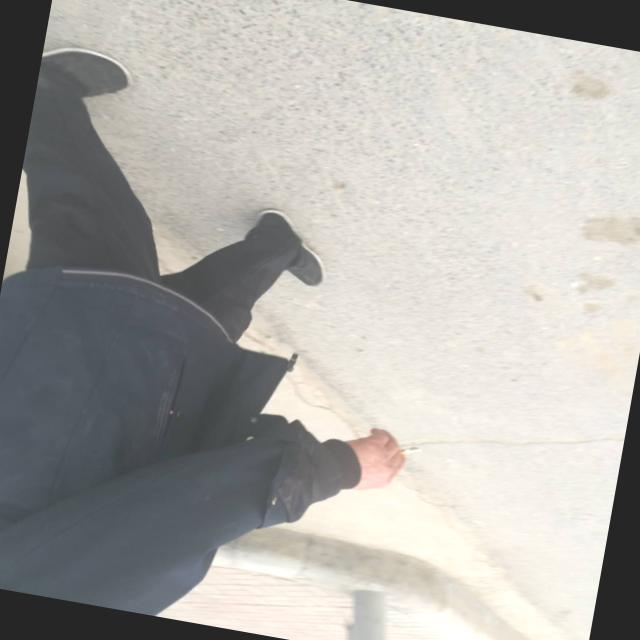smoke: (393, 438, 421, 456)
